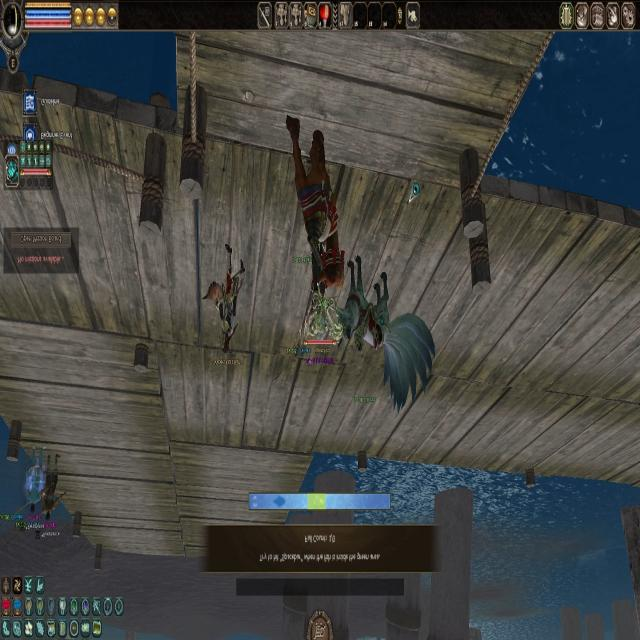box: (308, 493, 325, 510)
fishes: (272, 495, 286, 508)
